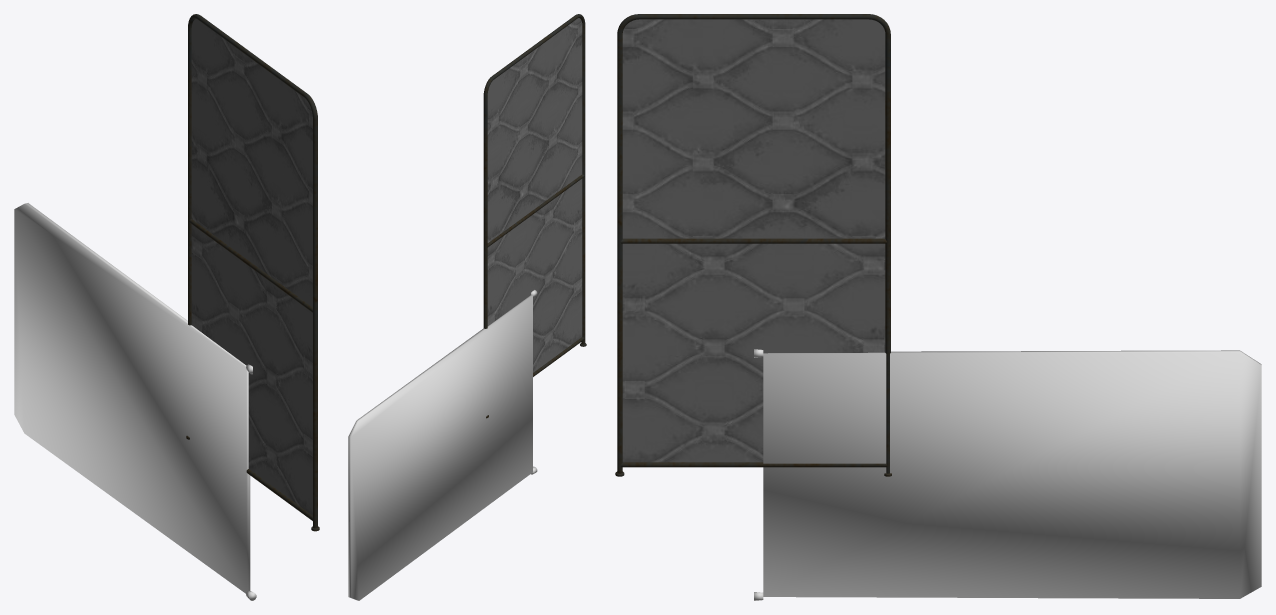
Rendered from SM_InsideMetalGrid.fbx.
3 views of the same model, side by side, from view 1: azimuth 30°, elevation 25°; view 2: azimuth 150°, elevation 25°; view 3: azimuth 270°, elevation 25° (orthographic). The views are drawn at different scales.
Parts seen in each view (by area): view 1: SM_InsideMetalGrid_ConvexHulls, SM_InsideMetalGrid; view 2: SM_InsideMetalGrid_ConvexHulls, SM_InsideMetalGrid; view 3: SM_InsideMetalGrid_ConvexHulls, SM_InsideMetalGrid.
Part boxes in pixels (box(x1,y1,x2,y2)): SM_InsideMetalGrid_ConvexHulls: box(14, 203, 256, 600); SM_InsideMetalGrid: box(186, 14, 319, 531); SM_InsideMetalGrid_ConvexHulls: box(348, 290, 537, 600); SM_InsideMetalGrid: box(483, 14, 586, 418); SM_InsideMetalGrid_ConvexHulls: box(754, 349, 1261, 600); SM_InsideMetalGrid: box(615, 14, 891, 476).
Bounding box in the file's own units: 0.114 × 8.28 × 8.27.
